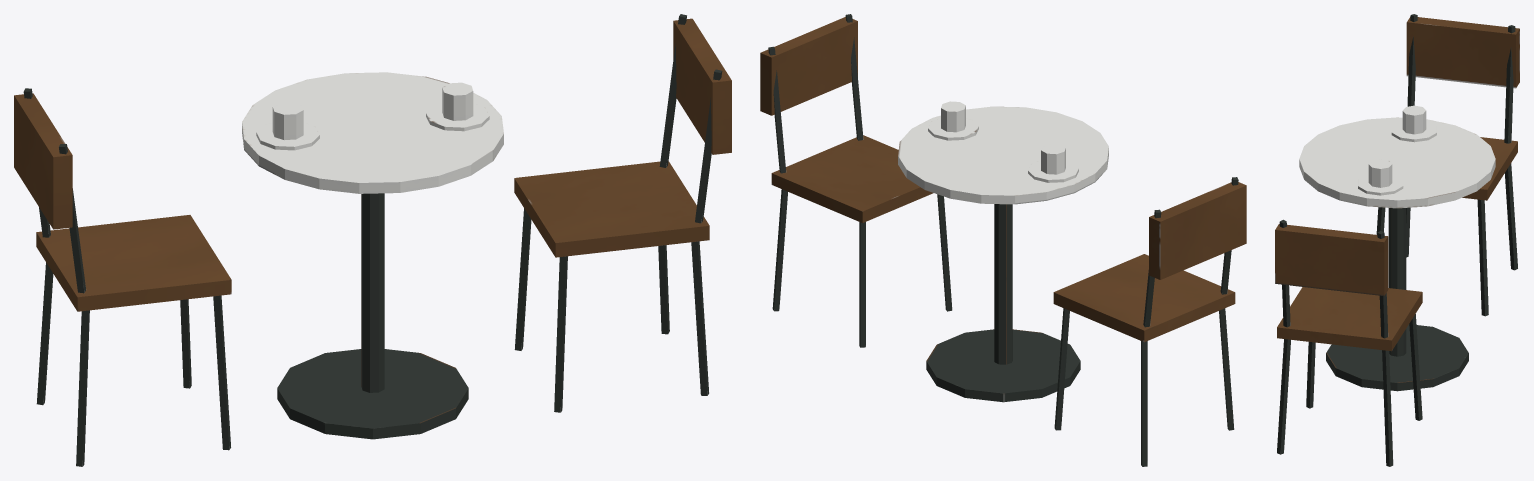
Rendered from stolek_kavarna_d3becd19.glb.
3 renders of one model, left to right at view 1: azimuth 30°, elevation 25°; view 2: azimuth 150°, elevation 25°; view 3: azimuth 270°, elevation 25°, orthographic. The views are drawn at different scales.
Visible parts, largest first — view 1: dum; view 2: dum; view 3: dum.
Boxes of the visible parts, <box> form: dum: <box>14,14,731,466</box>; dum: <box>760,14,1246,466</box>; dum: <box>1275,14,1519,466</box>.
Size of the model in its own units: 1.79 by 0.8799 by 0.8205.
1 material, 1 textured.
